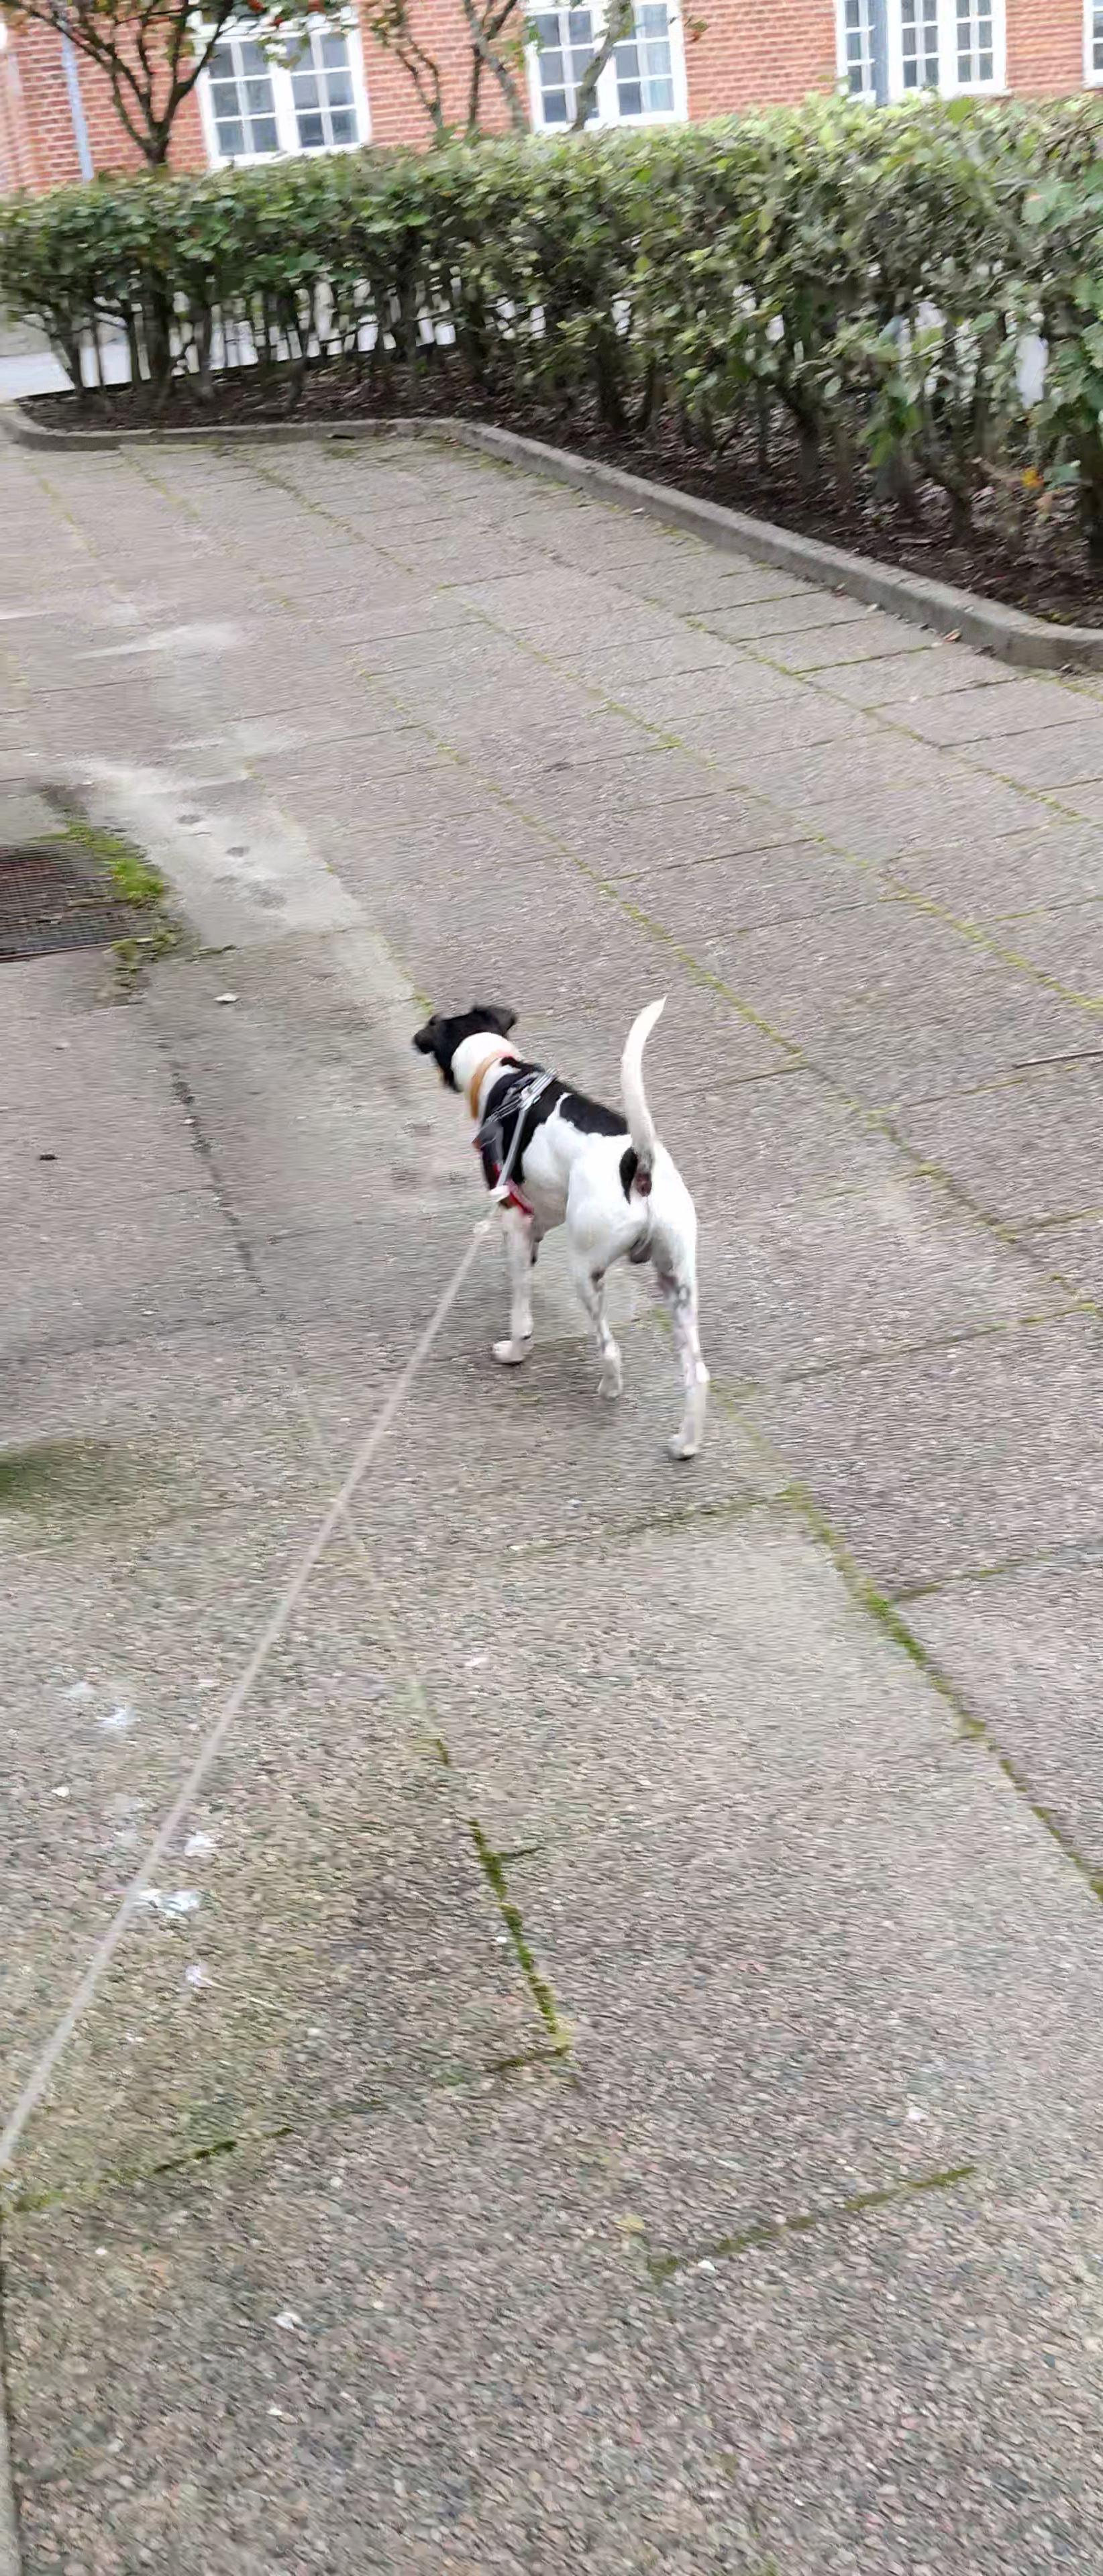Dog: (409, 989, 731, 1470)
